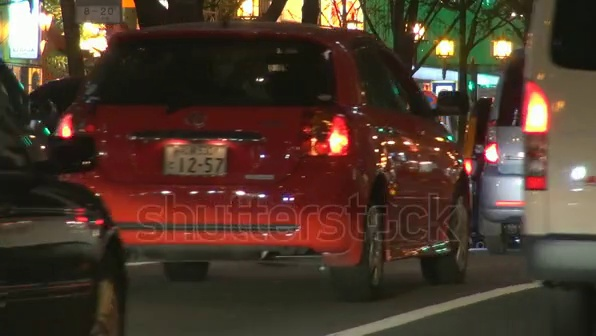licenseplate: (167, 141, 229, 179)
